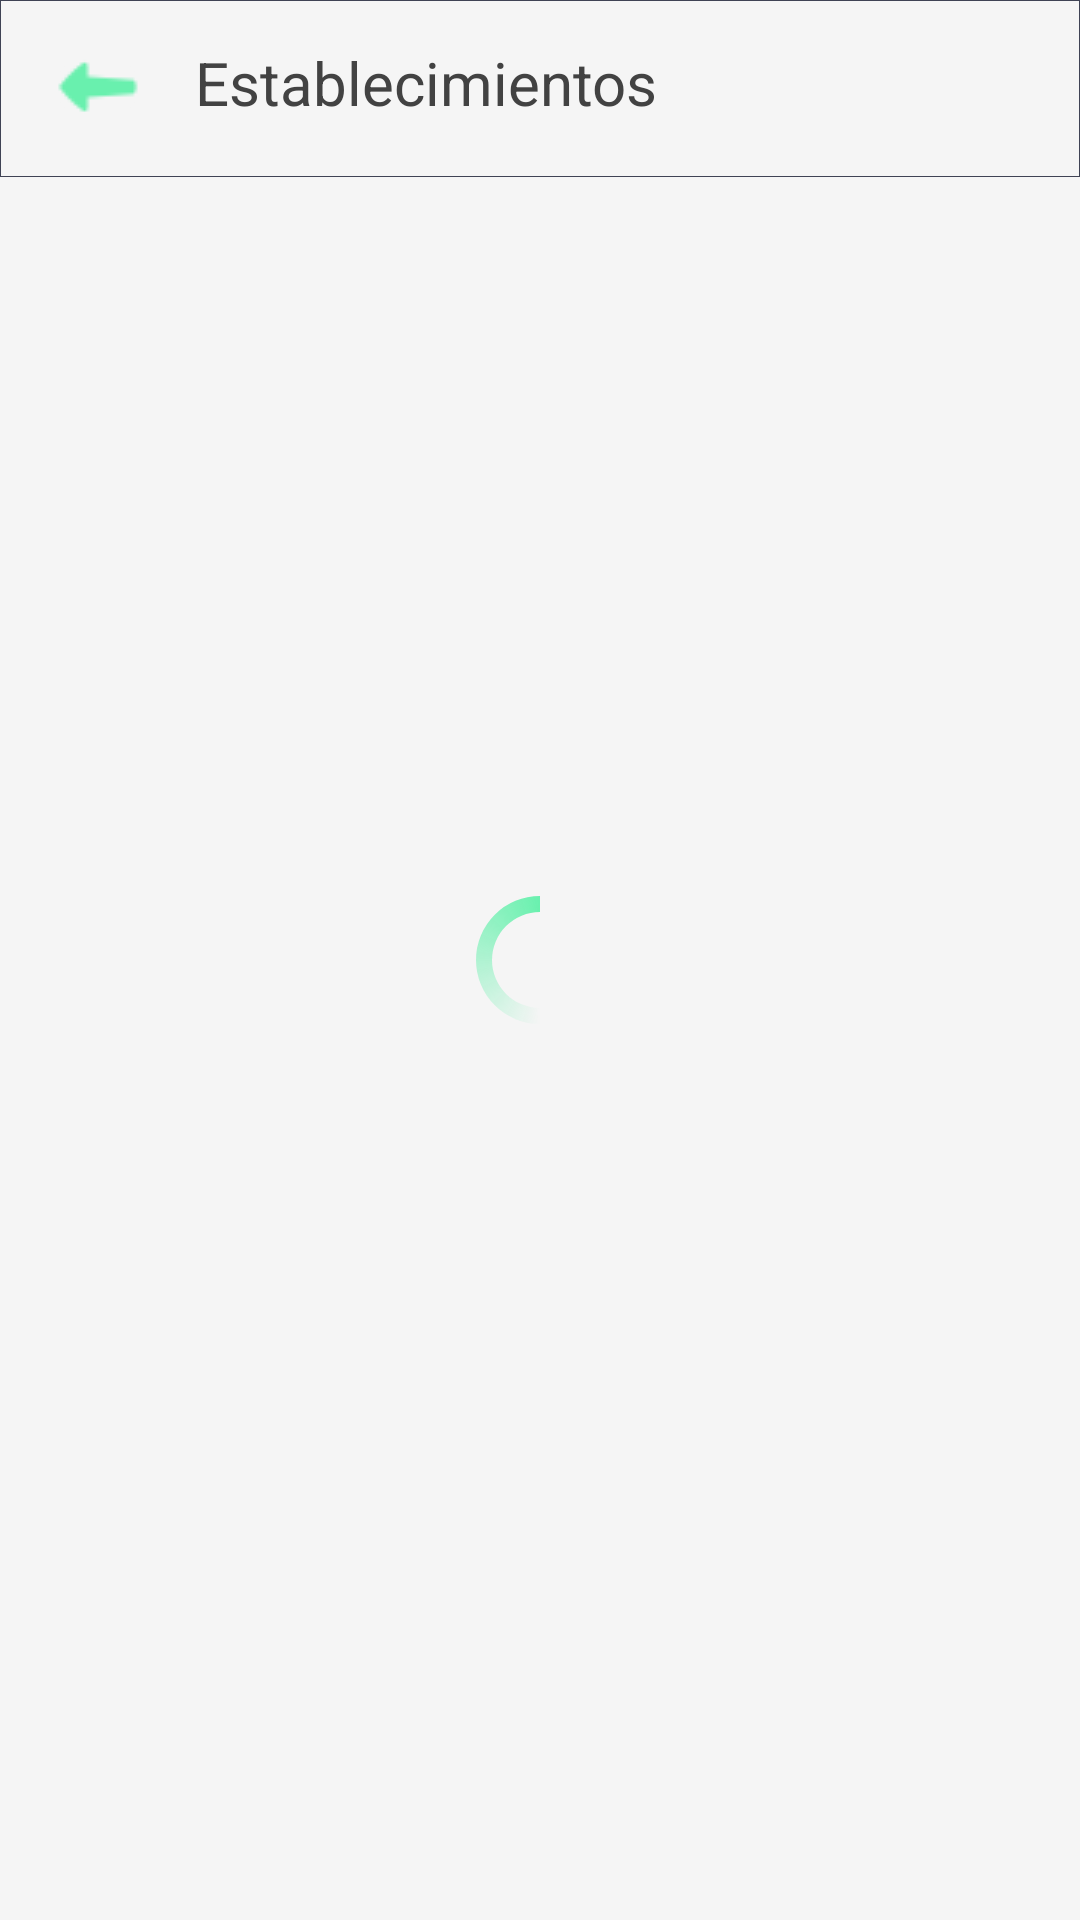

Icon click points for this 1080 × 1920 phone screenshot, format (x=x, y=y):
back: (x=98, y=87)
